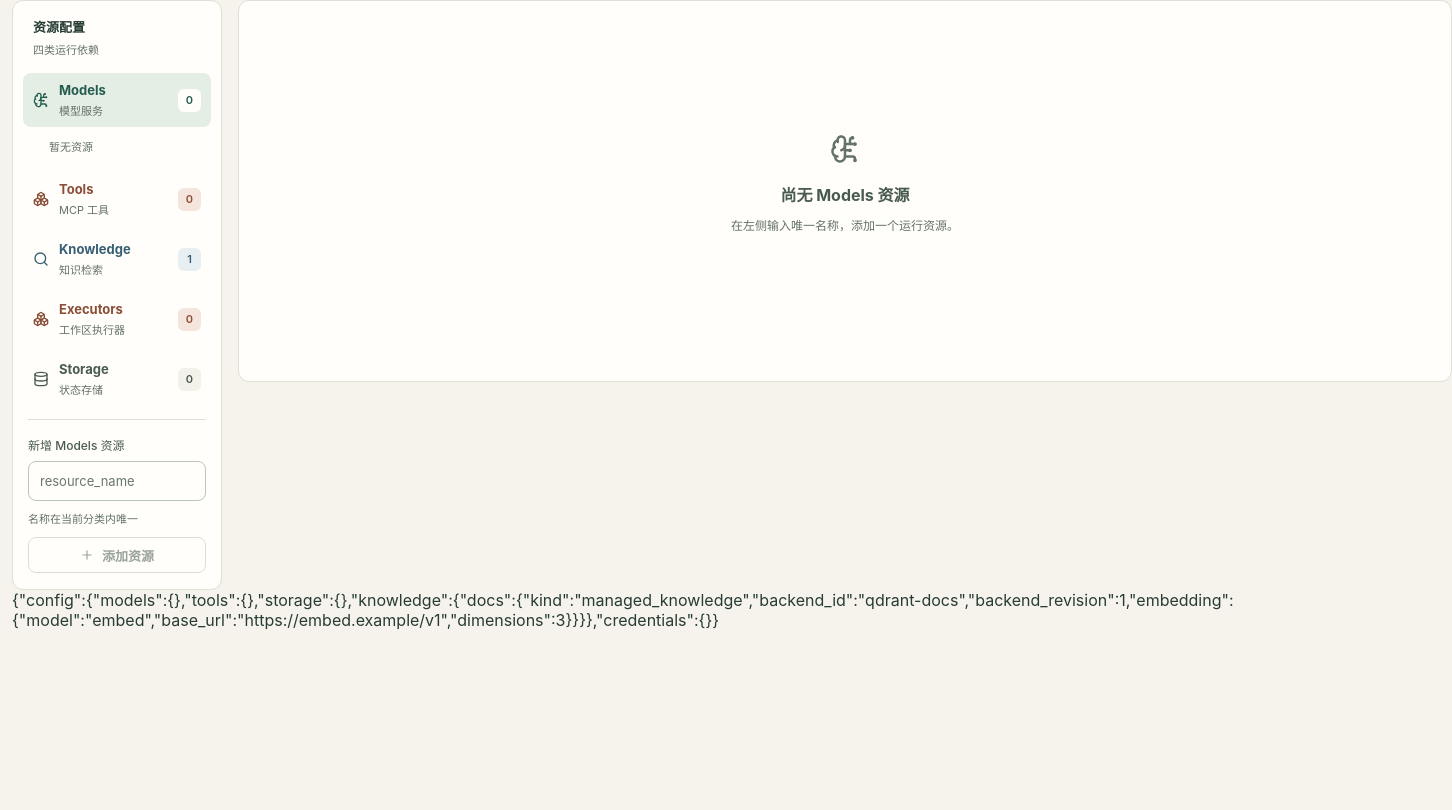
Test: preserves current status when catalog does not confirm exact Qdrant revision
Click the button with aria-label "Knowledge ·" at {"x": 117, "y": 259}, box [23, 232, 211, 286]
(page scrolled)
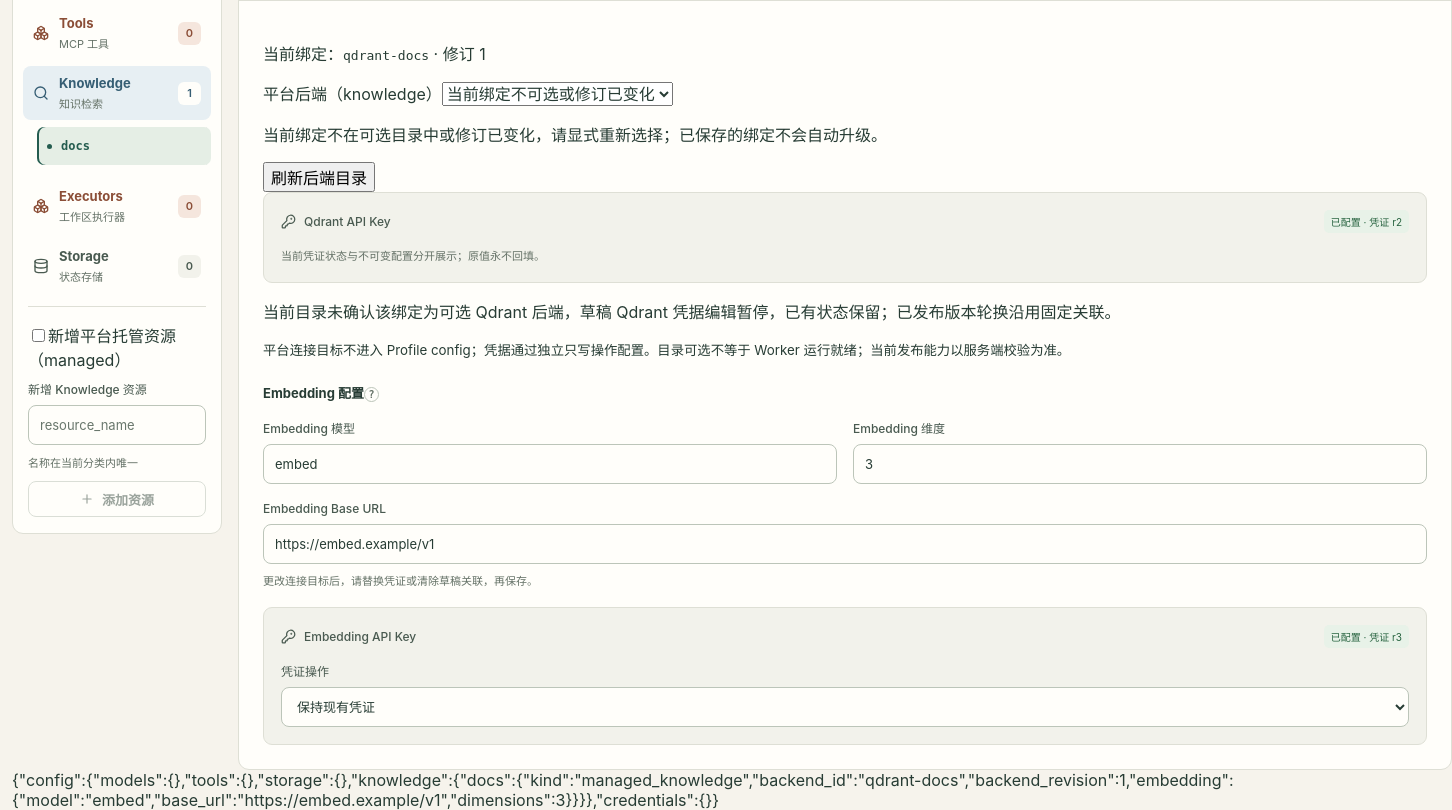
Check: the button "刷新后端目录" is enabled, box [263, 162, 375, 192]
Check: the element "Qdrant API Key" shows "凭证 r2", box [1331, 216, 1402, 228]
Check: the dropdown named "Embedding API Key 操作" is enabled, box [281, 687, 1409, 727]
